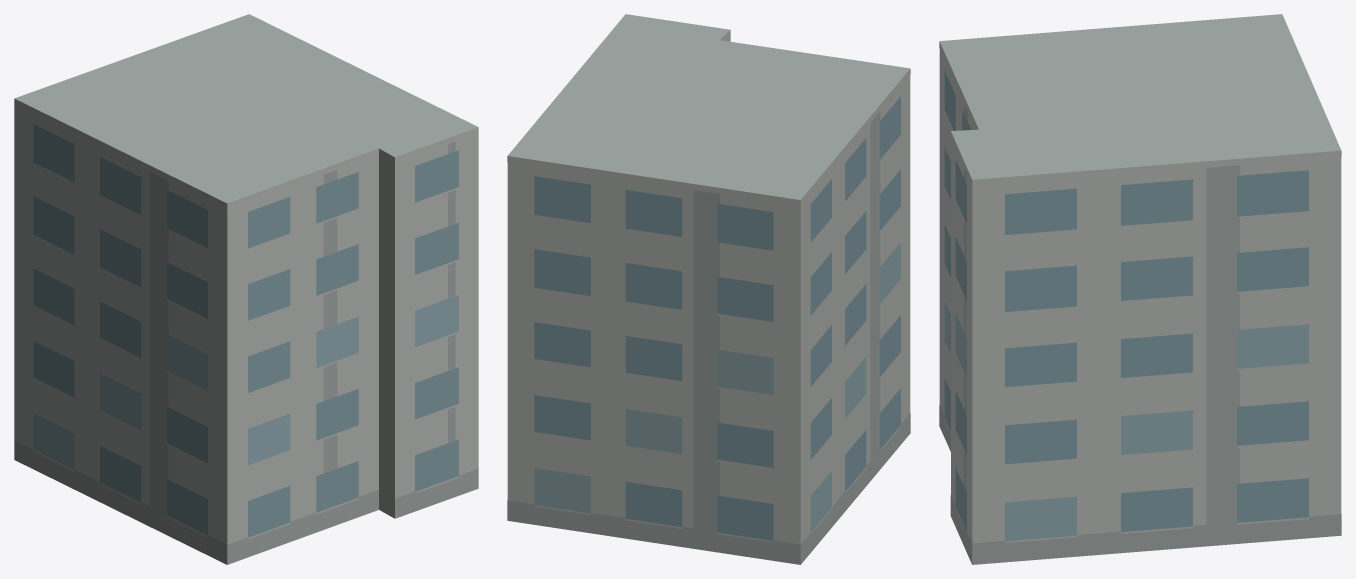
File: survey-upis-33008375.glb
The picture shows the model from 3 angles, left to right: view 1: azimuth 30°, elevation 25°; view 2: azimuth 150°, elevation 25°; view 3: azimuth 270°, elevation 25°; orthographic projection. The views are drawn at different scales.
Parts seen in each view (by area): view 1: survey-upis-33008375.tmp; view 2: survey-upis-33008375.tmp; view 3: survey-upis-33008375.tmp.
Part boxes in pixels (x1,y1,x2,y2): survey-upis-33008375.tmp: (14, 14, 478, 564); survey-upis-33008375.tmp: (507, 14, 910, 564); survey-upis-33008375.tmp: (939, 14, 1341, 564).
Bounding box in the file's own units: 12.98 × 14.05 × 13.3.
